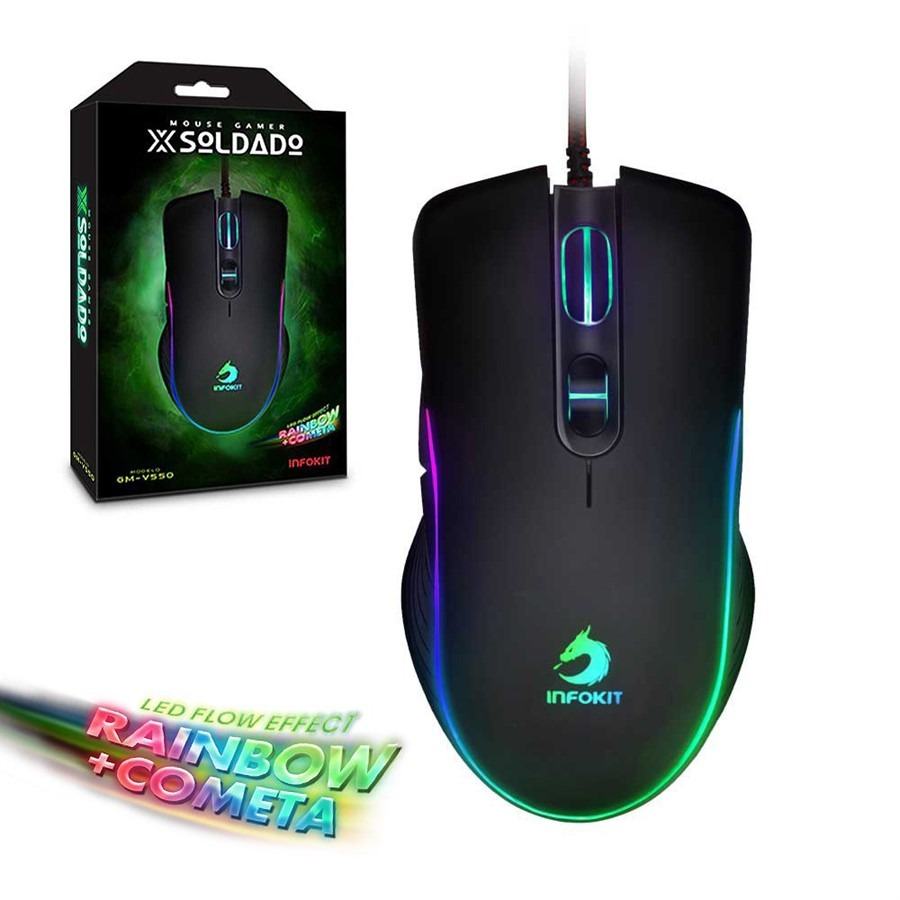mouse: (404, 158, 767, 824), (147, 181, 296, 441)
